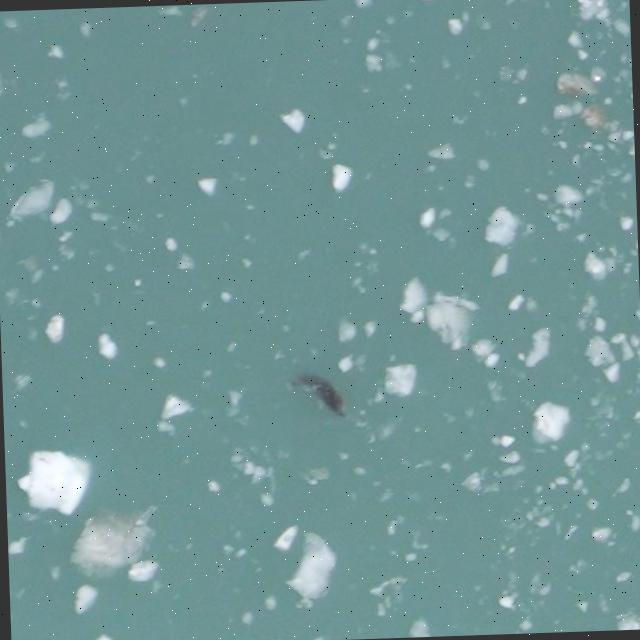seal: (290, 363, 353, 418)
